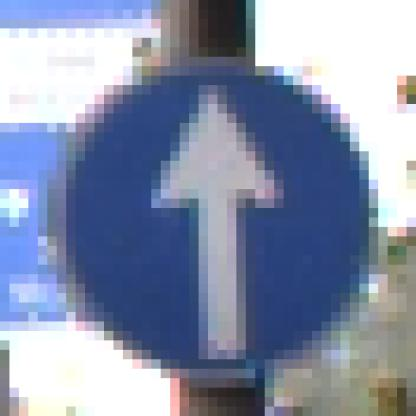AheadOnly: (58, 58, 360, 360)
